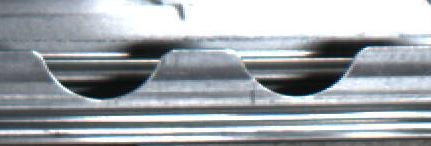twou: (38, 41, 360, 105)
